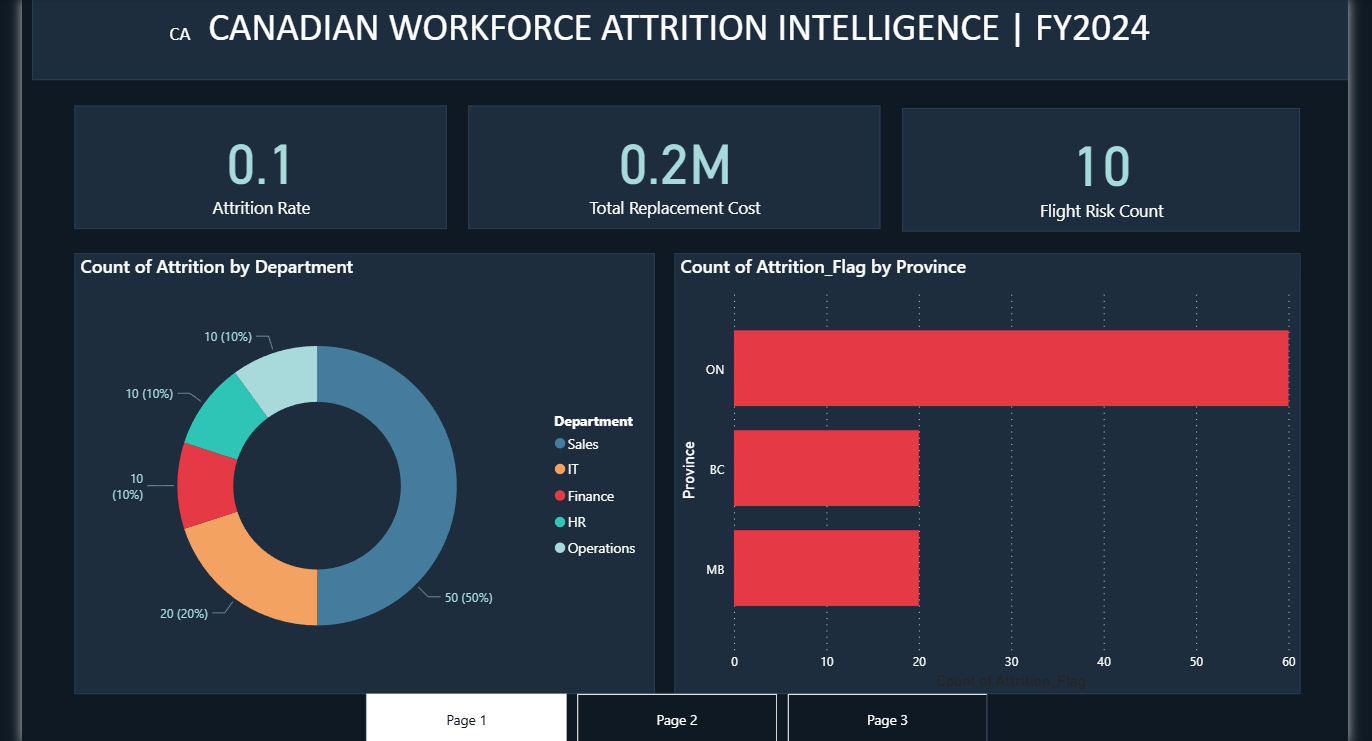

What the dashboard file says about the page in this screenshot:
{"tool":"powerbi","page":{"name":"Page 1","canvas":[1280,720],"ordinal":0},"visuals":[{"type":"textbox","box":[9.6,0,1270.7,79.6],"z":0},{"type":"card","fields":{"Values":["_Measures.Attrition Rate"]},"box":[50.8,104.3,359.5,119.4],"z":1000},{"type":"card","fields":{"Values":["_Measures.Total Replacement Cost"]},"box":[430.9,104.3,397.9,119.4],"z":2000},{"type":"card","fields":{"Values":["_Measures.Flight Risk Count"]},"box":[849.4,105.7,384.2,119.4],"z":3000},{"type":"donutChart","fields":{"Category":["HR_Attrition_Canada csv.Department"],"Y":["CountNonNull(HR_Attrition_Canada csv.Attrition)"]},"box":[50.8,245.6,559.9,425.4],"z":4000},{"type":"clusteredBarChart","fields":{"Category":["HR_Attrition_Canada csv.Province"],"Y":["CountNonNull(HR_Attrition_Canada csv.Attrition_Flag)"]},"box":[629.8,245.6,603.8,425.4],"z":5000},{"type":"pageNavigator","box":[332.1,671,599.7,49.4],"z":5001}]}

Visuals, with their boxes on the page's 1280x720 design canvas (x1, y1, x2, y2). These are canvas units, not pixel positions in the 1372x741 screenshot, which may show the page scaled, cropped or inside an application window:
textbox: l=10, t=0, r=1280, b=80
card - _Measures.Attrition Rate: l=51, t=104, r=410, b=224
card - _Measures.Total Replacement Cost: l=431, t=104, r=829, b=224
card - _Measures.Flight Risk Count: l=849, t=106, r=1234, b=225
donutChart - HR_Attrition_Canada csv.Department x CountNonNull(HR_Attrition_Canada csv.Attrition): l=51, t=246, r=611, b=671
clusteredBarChart - HR_Attrition_Canada csv.Province x CountNonNull(HR_Attrition_Canada csv.Attrition_Flag): l=630, t=246, r=1234, b=671
pageNavigator: l=332, t=671, r=932, b=720
